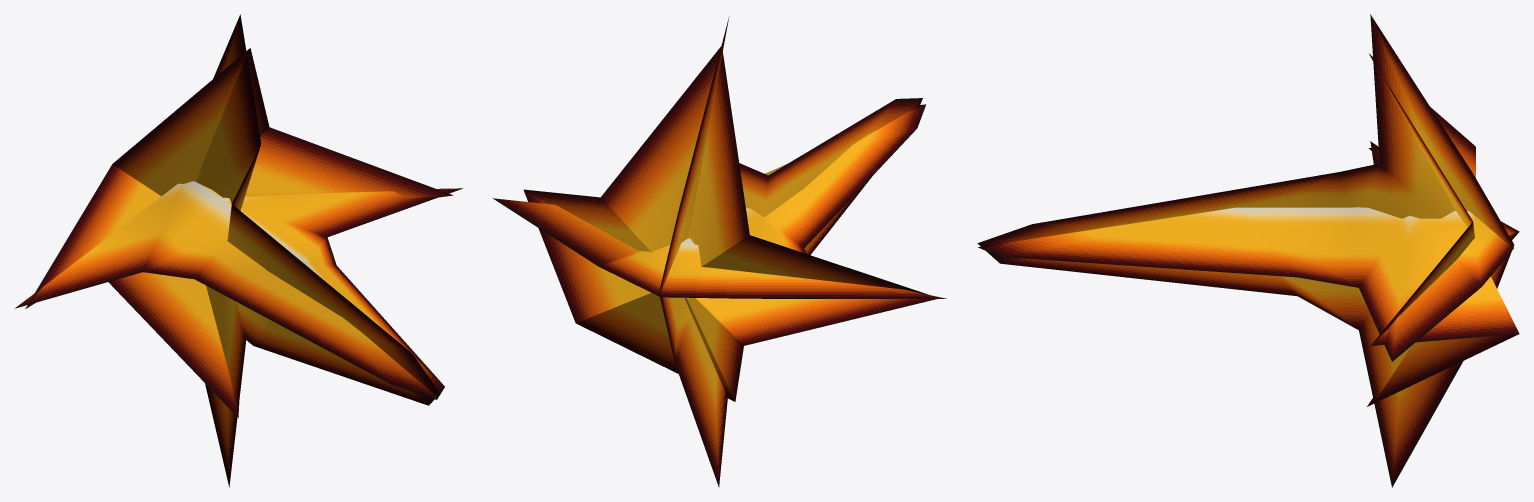
File: Muzzleflash_01.fbx
3 views of the same model, side by side, from view 1: azimuth 30°, elevation 25°; view 2: azimuth 150°, elevation 25°; view 3: azimuth 270°, elevation 25° (orthographic). The views are drawn at different scales.
Visible parts, largest first — view 1: muzzleflash; view 2: muzzleflash; view 3: muzzleflash.
Boxes of the visible parts, bbox=[...] form: muzzleflash: bbox=[15, 14, 462, 486]; muzzleflash: bbox=[493, 16, 946, 486]; muzzleflash: bbox=[977, 14, 1519, 487].
Bounding box in the file's own units: 28.13 × 28.13 × 29.17.
1 material, 1 textured.
